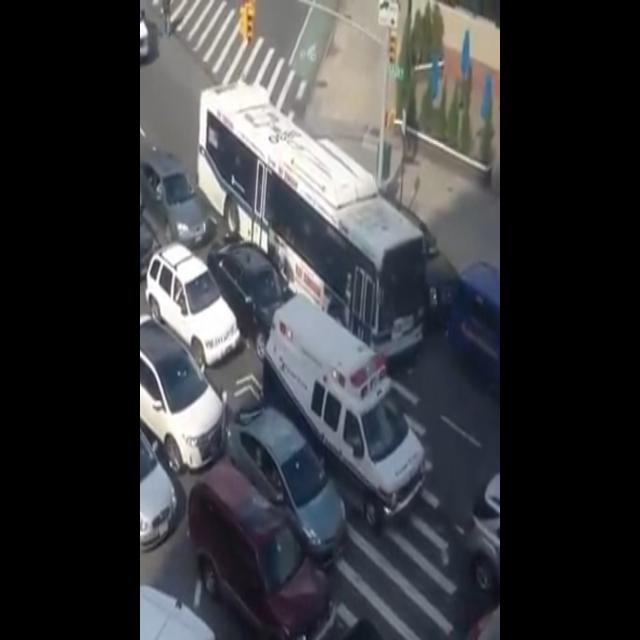Ambulance: (265, 281, 426, 538)
